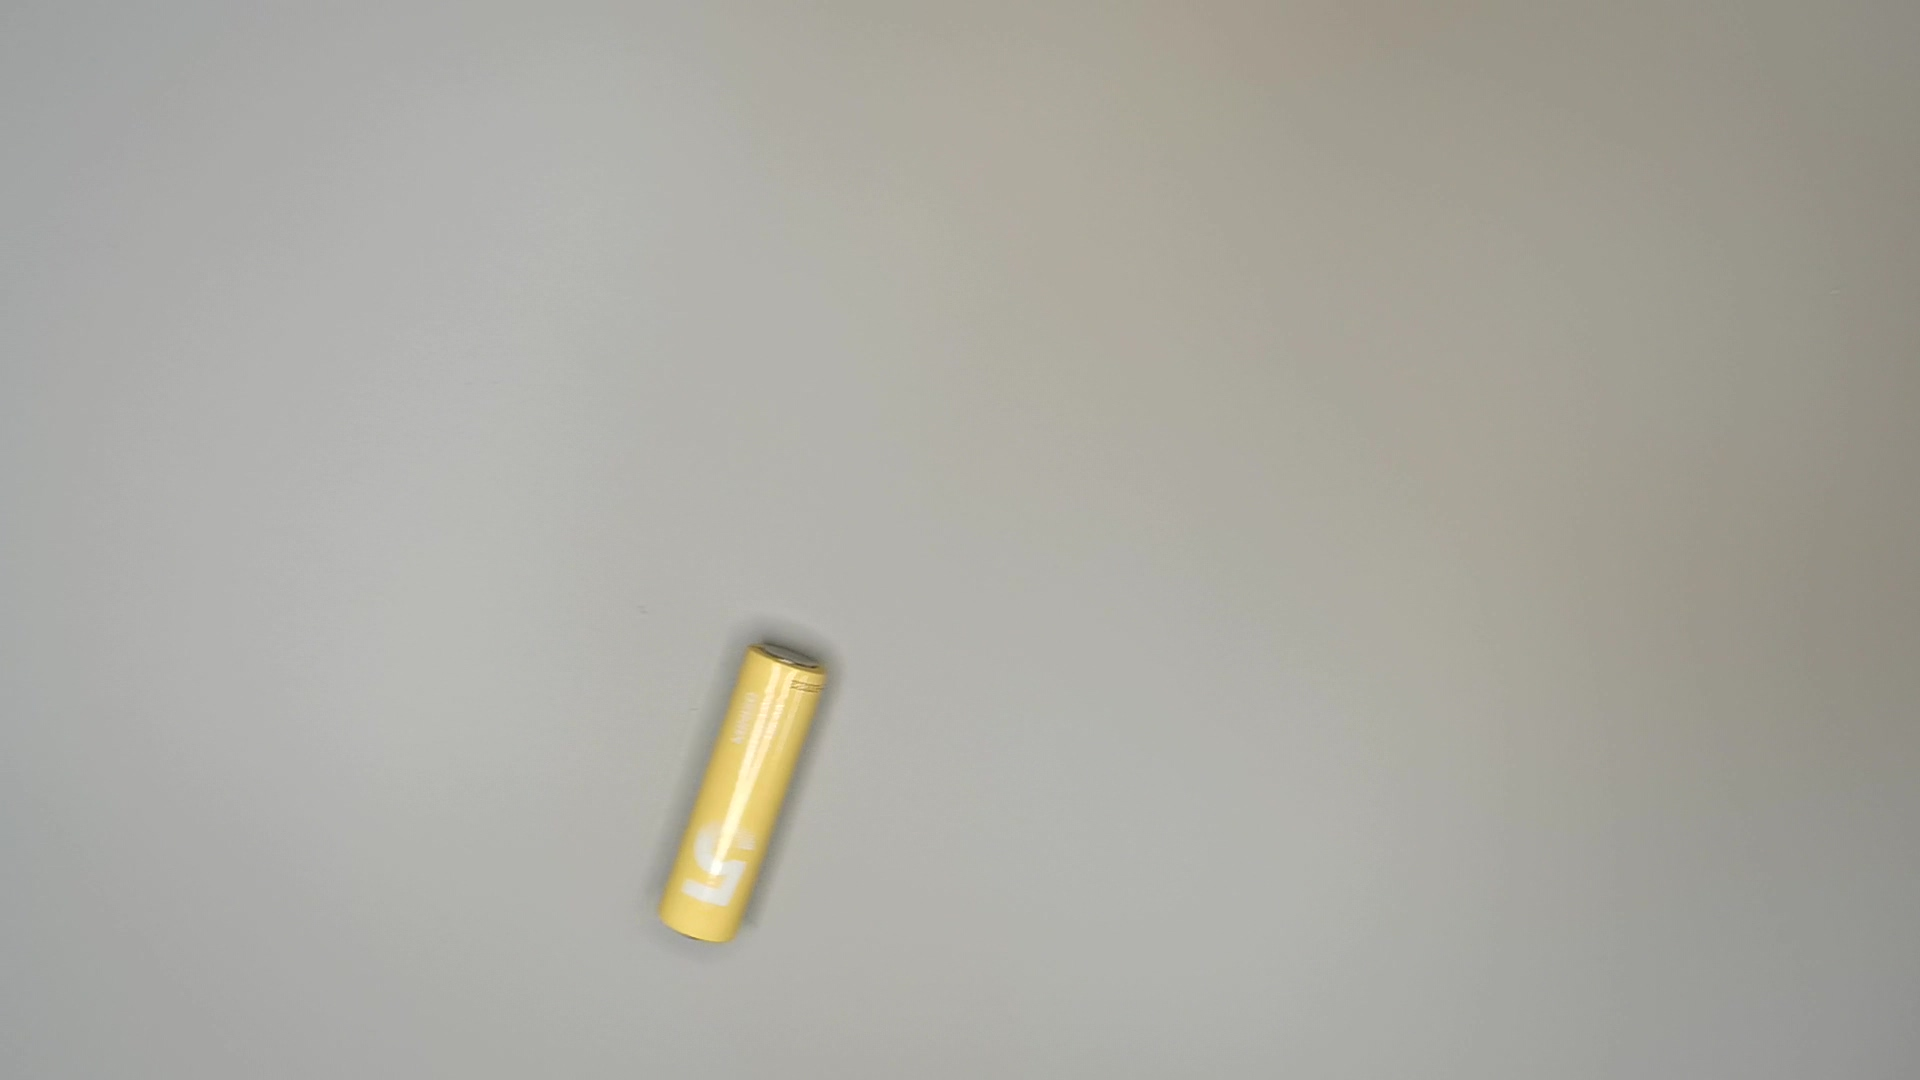battery: (647, 632, 833, 949)
